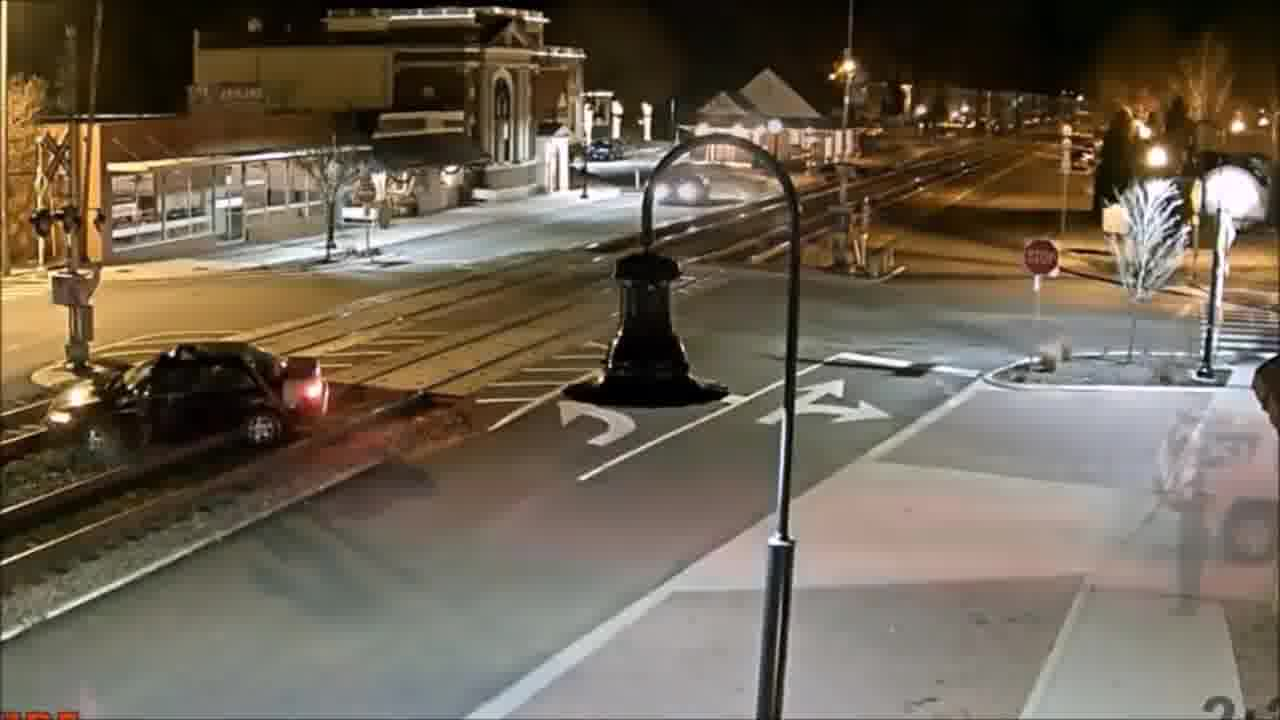crossing railway track: (43, 324, 327, 469)
